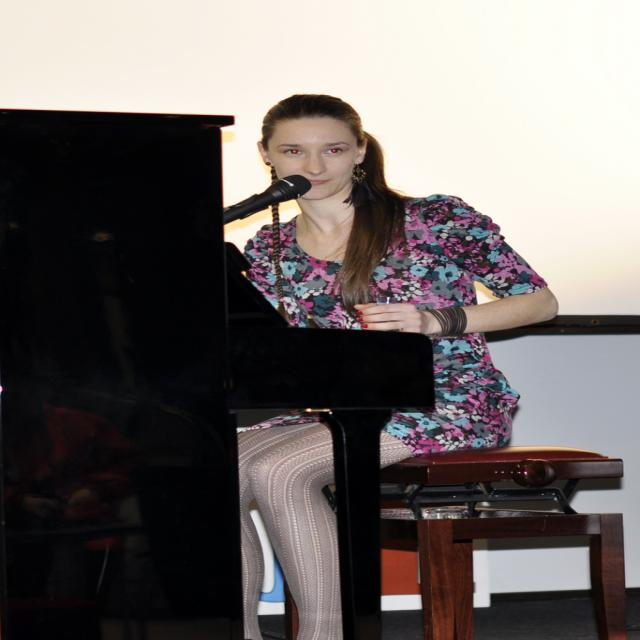desk: (404, 488, 631, 631)
laptop: (225, 242, 436, 416)
person: (233, 93, 560, 454)
